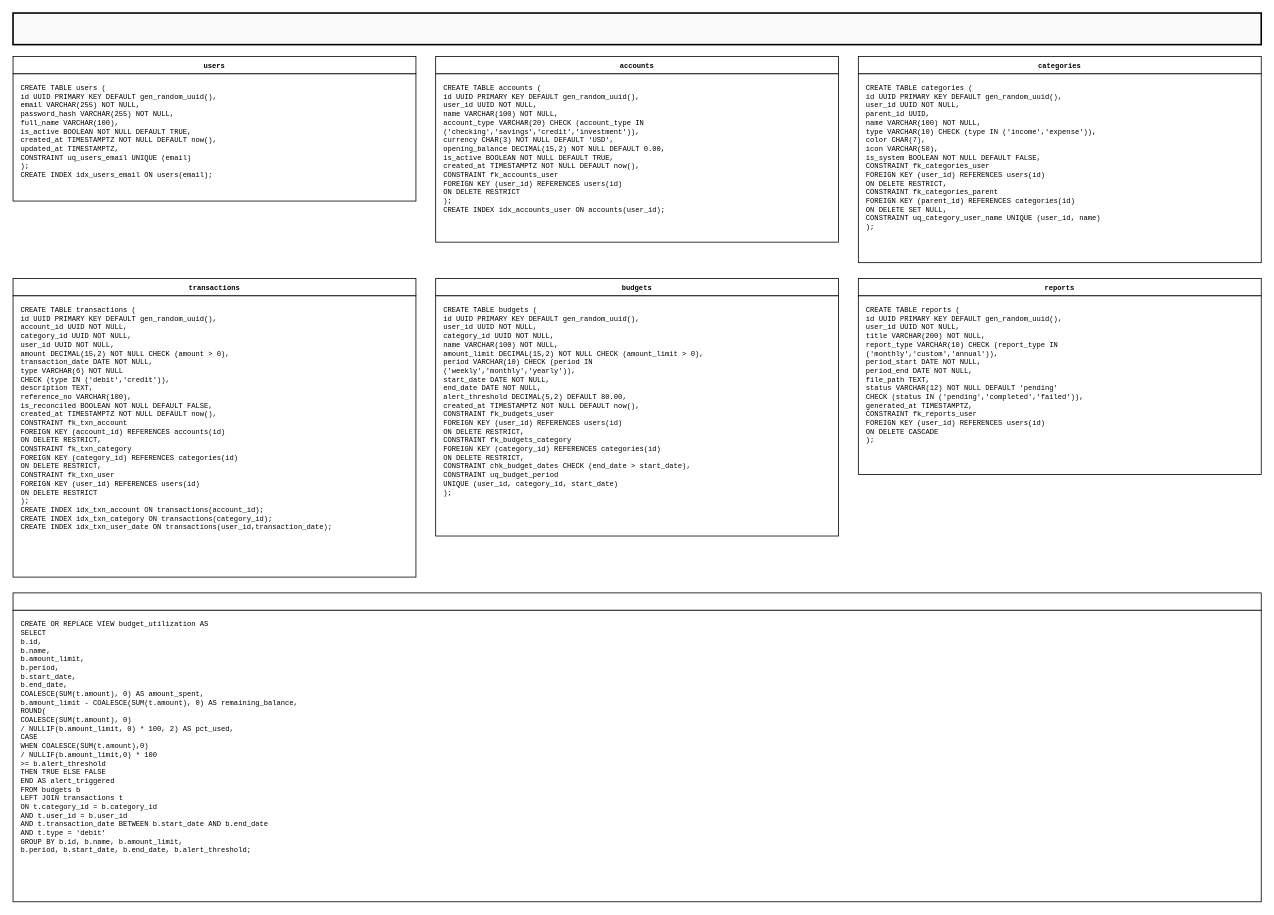
Image size: 1274x915. Some labels were removed from this diagram. The shapes that lost their labels are listed below. From the top down, each one's box as (x1, y1, x2, y2) in pixels, then its label:
(12, 12, 1262, 45): STAGE 5 — LOGICAL SCHEMA & CONSTRAINT DEFINITION
(12, 592, 1261, 610): budget_utilization (VIEW — remaining balance + alert)
